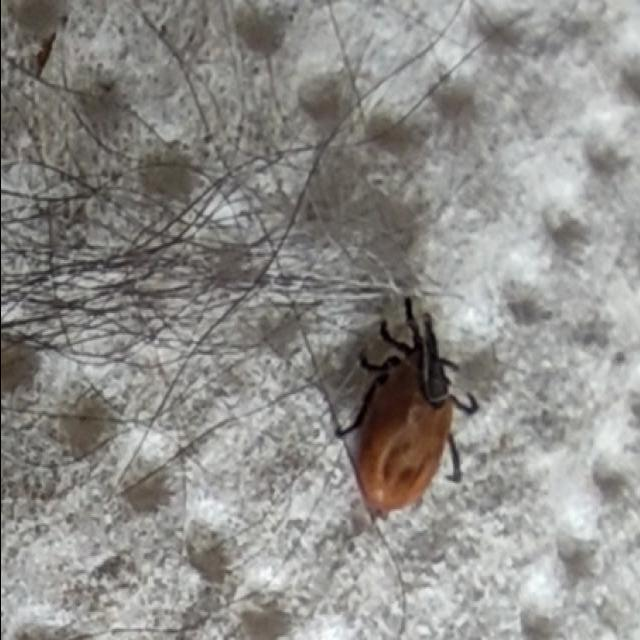Ixodes Ricinus-F-Fed: (333, 299, 478, 519)
